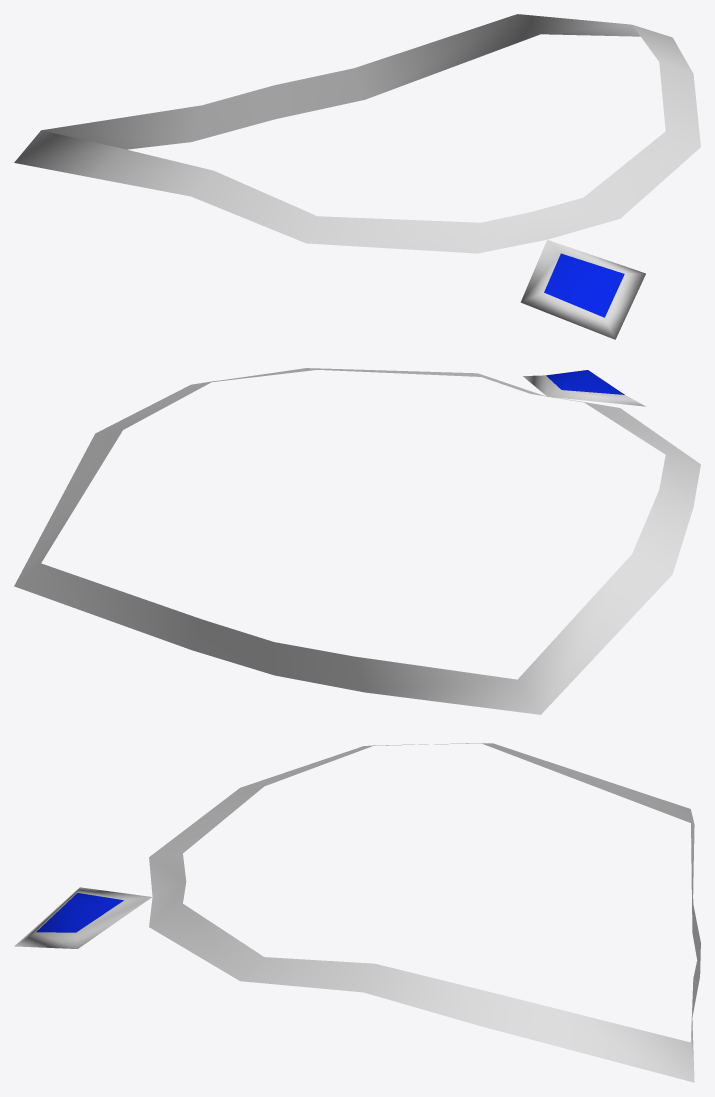
The model's file is necklaceJewelSilver.glb.
3 renders of one model, top to bottom at view 1: azimuth 30°, elevation 25°; view 2: azimuth 150°, elevation 25°; view 3: azimuth 270°, elevation 25°, orthographic.
Parts seen in each view (by area): view 1: necklace Jewel Bronze; view 2: necklace Jewel Bronze; view 3: necklace Jewel Bronze.
Part boxes in pixels (box(x1,y1,x2,y2)): necklace Jewel Bronze: box(14, 14, 700, 339); necklace Jewel Bronze: box(14, 368, 700, 714); necklace Jewel Bronze: box(14, 743, 700, 1082).
Bounding box in the file's own units: 0.1872 × 0.0377 × 0.192.
